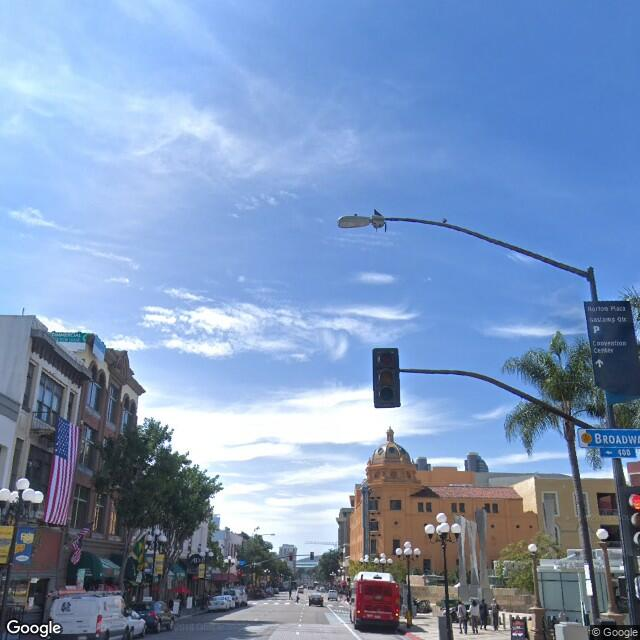light: (335, 209, 384, 228)
